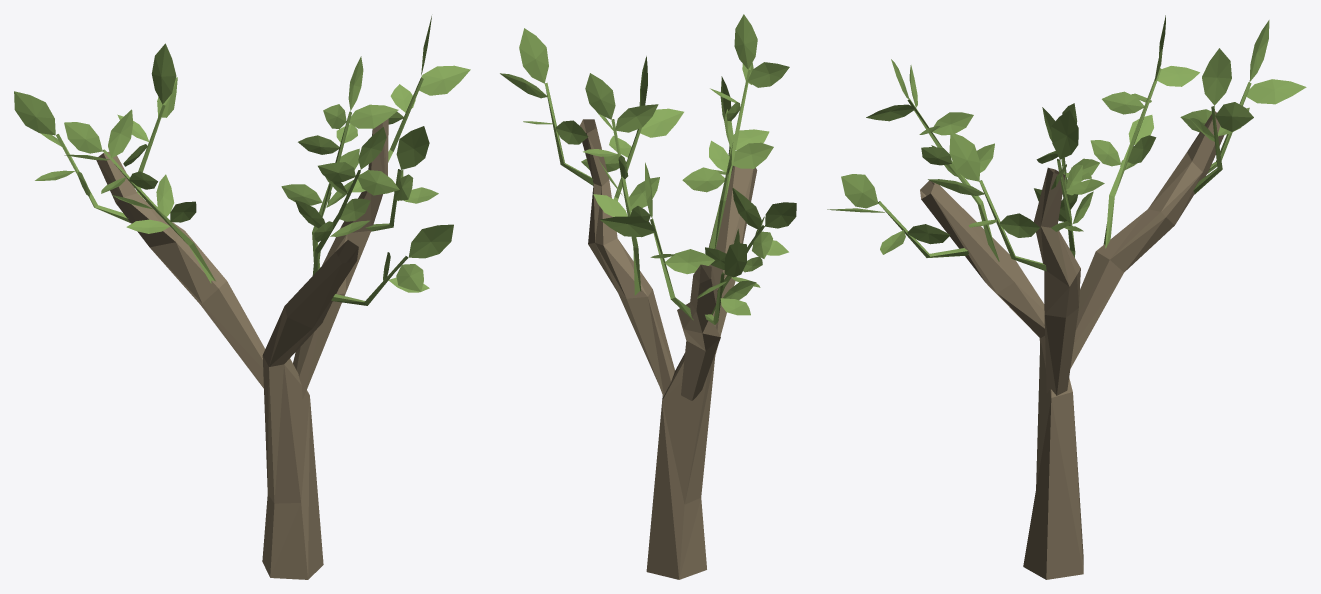
The model's file is Apple_2_2.fbx.
3 renders of one model, left to right at view 1: azimuth 30°, elevation 25°; view 2: azimuth 150°, elevation 25°; view 3: azimuth 270°, elevation 25°, orthographic. The views are drawn at different scales.
Visible parts, largest first — view 1: Apple_2_2; view 2: Apple_2_2; view 3: Apple_2_2.
Part boxes in pixels (bbox=[...]): Apple_2_2: bbox=[14, 16, 470, 579]; Apple_2_2: bbox=[500, 14, 796, 579]; Apple_2_2: bbox=[827, 15, 1306, 579].
Bounding box in the file's own units: 101 × 140 × 115.
